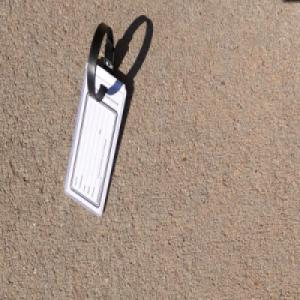LuggageTag: (64, 20, 128, 218)
